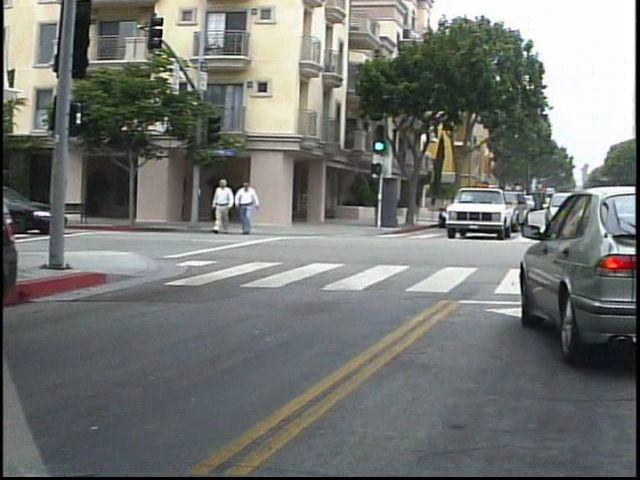person: (242, 175, 269, 239), (216, 176, 241, 241)
